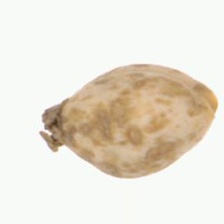L1: (37, 100, 67, 151), (193, 81, 219, 124)
L2: (40, 63, 218, 180)
